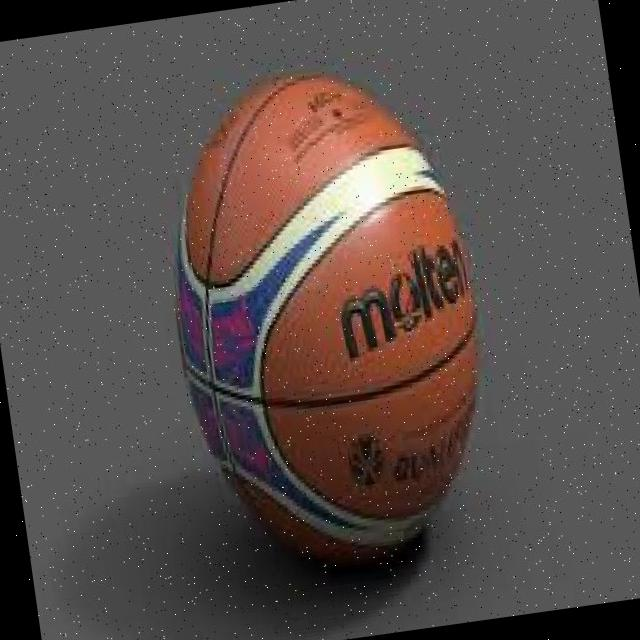ball: (146, 57, 506, 578)
